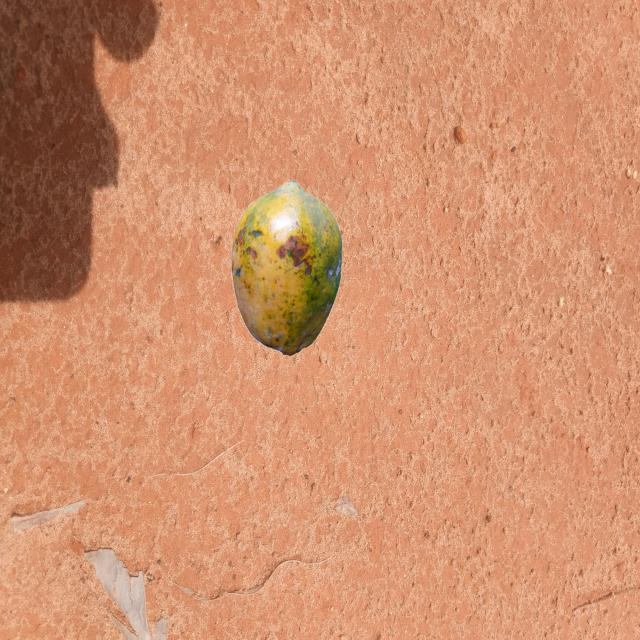Pepaya rippen: (232, 174, 351, 356)
